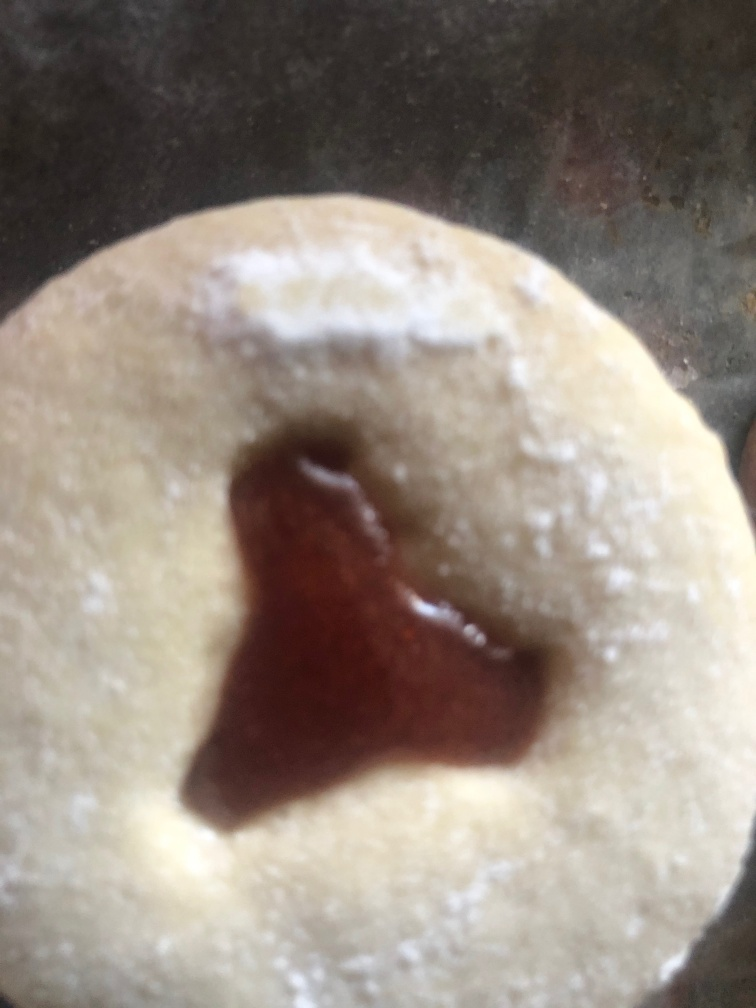christmas shortbread with jam: (2, 189, 753, 1002)
